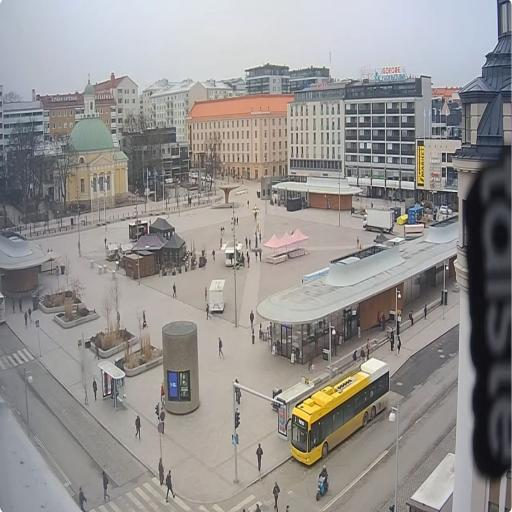bus: (277, 353, 396, 473), (0, 292, 8, 328)
car: (440, 204, 454, 216), (205, 173, 216, 183), (200, 173, 208, 180), (188, 174, 198, 178)
delivery: (363, 208, 395, 232)
two-wheels: (311, 462, 332, 504)
